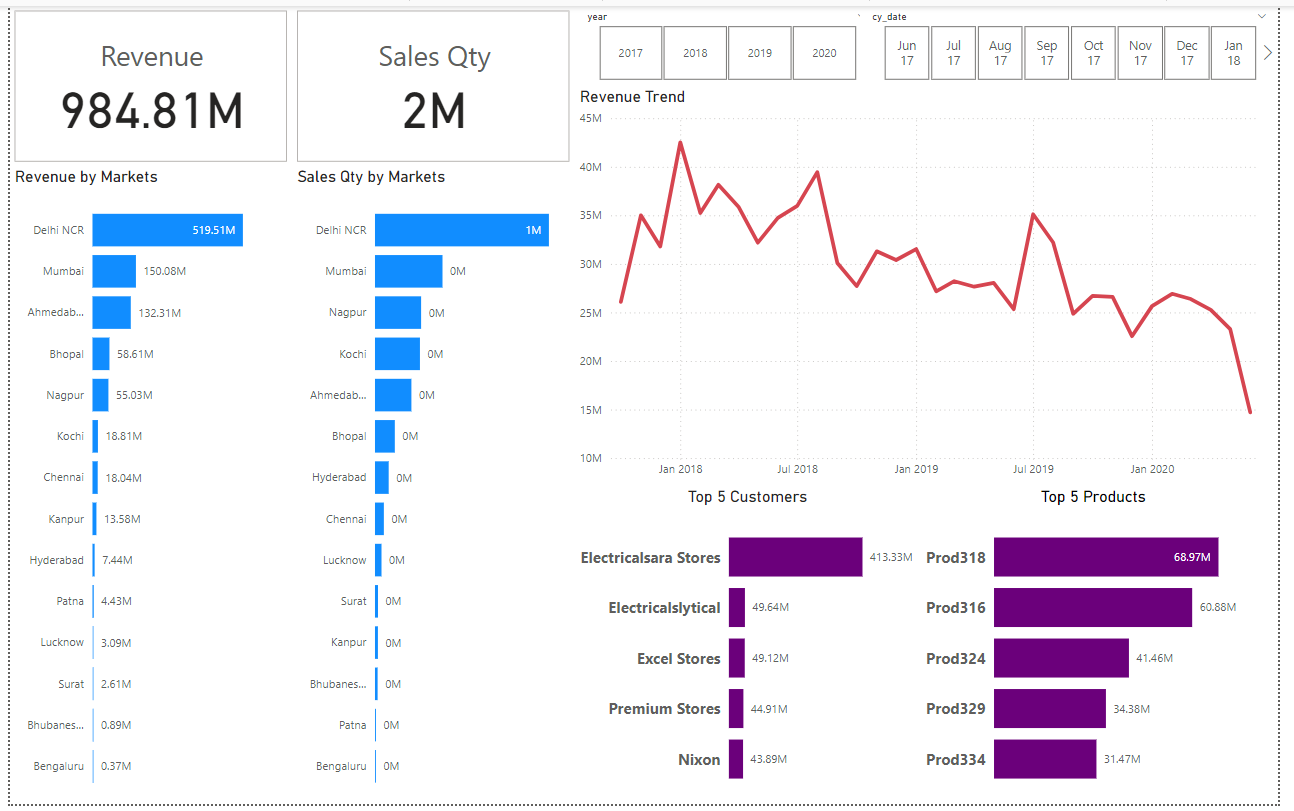

What the dashboard file says about the page in this screenshot:
{"tool":"powerbi","page":{"name":"Page 1","canvas":[1350,850],"ordinal":0},"visuals":[{"type":"cardVisual","fields":{"Data":["BaseMeasures.Revenue"]},"box":[0,0,301,171.4],"z":0},{"type":"cardVisual","fields":{"Data":["BaseMeasures.Sales Qty"]},"box":[300.9,0,300.9,171.7],"z":1000},{"type":"barChart","title":"Revenue by Markets","fields":{"Y":["BaseMeasures.Revenue"],"Category":["sales markets.markets_name"]},"box":[0,171.7,300.9,678.3],"z":2000},{"type":"barChart","title":"Sales Qty by Markets","fields":{"Y":["BaseMeasures.Sales Qty"],"Category":["sales markets.markets_name"]},"box":[300.9,171.7,300.9,678.3],"z":3000},{"type":"slicer","fields":{"Values":["sales date.year"]},"box":[601.8,0,323,85],"z":4000},{"type":"slicer","fields":{"Values":["sales date.cy_date"]},"box":[904.4,0,445.4,85],"z":5000},{"type":"barChart","title":"Top 5 Customers","fields":{"Y":["BaseMeasures.Revenue"],"Category":["sales customers.custmer_name"]},"box":[601.8,511.7,367.2,338.3],"z":6000},{"type":"barChart","title":"Top 5 Products","fields":{"Y":["BaseMeasures.Revenue"],"Category":["sales transactions.product_code"]},"box":[969,511.7,368.9,338.3],"z":7000},{"type":"lineChart","title":"Revenue Trend","fields":{"Y":["BaseMeasures.Revenue"],"Category":["sales date.cy_date.Variation.Date Hierarchy.Year","sales date.cy_date.Variation.Date Hierarchy.Quarter","sales date.cy_date.Variation.Date Hierarchy.Month","sales date.cy_date.Variation.Date Hierarchy.Day"]},"box":[601.8,86.7,748,425],"z":8000}]}

Visuals, with their boxes in screenshot pixels (x1, y1, x2, y2), scaled from the page's 1350x850 canvas onto the 1294x811 screenshot:
cardVisual - BaseMeasures.Revenue: bbox=(0, 0, 289, 164)
cardVisual - BaseMeasures.Sales Qty: bbox=(288, 0, 577, 164)
"Revenue by Markets" barChart: bbox=(0, 164, 288, 810)
"Sales Qty by Markets" barChart: bbox=(288, 164, 577, 810)
slicer - sales date.year: bbox=(577, 0, 886, 81)
slicer - sales date.cy_date: bbox=(867, 0, 1293, 81)
"Top 5 Customers" barChart: bbox=(577, 488, 929, 810)
"Top 5 Products" barChart: bbox=(929, 488, 1282, 810)
"Revenue Trend" lineChart: bbox=(577, 83, 1293, 488)
